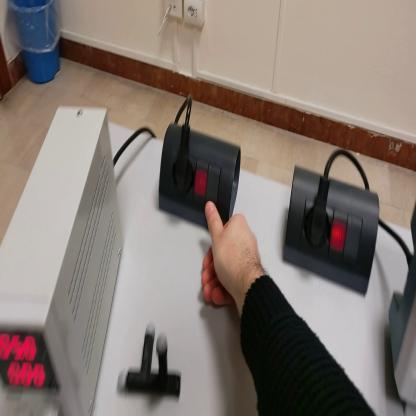hand: (202, 200, 263, 311)
oscilloscope: (391, 200, 416, 415)
power supply: (2, 106, 124, 415)
socket: (285, 163, 382, 302), (158, 129, 242, 238)
